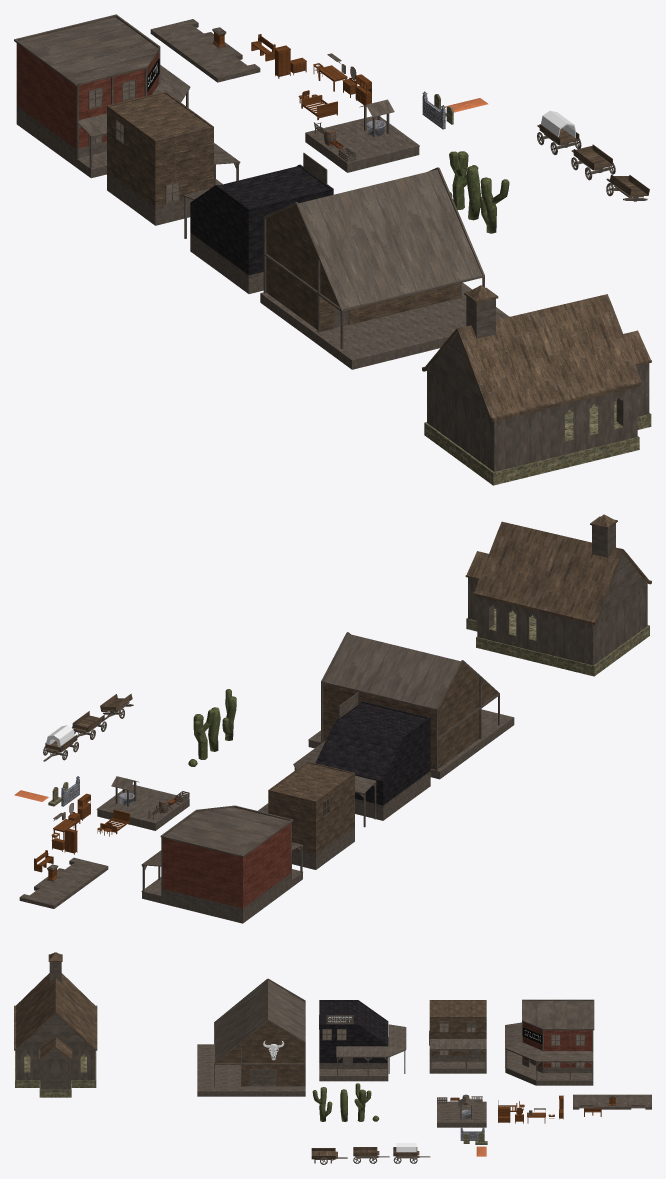
The model's file is village.glb.
3 renders of one model, top to bottom at view 1: azimuth 30°, elevation 25°; view 2: azimuth 150°, elevation 25°; view 3: azimuth 270°, elevation 25°, orthographic. The views are drawn at different scales.
Parts seen in each view (by area): view 1: Cube.166, Cube.149, Cube.146, Cube.160, Cube.148, Cube.108, Cube.122, Cube.060, Cube.186, Cube.150, Cube.127, Cube.109 (+2 smaller); view 2: Cube.166, Cube.149, Cube.160, Cube.122, Cube.146, Cube.108, Cube.060, Cube.186, Cube.127, Cube.150, Cube.148, Cube.154; view 3: Cube.166, Cube.149, Cube.160, Cube.146, Cube.108, Cube.148, Cube.122, Cube.127, Cube.109, Cube.157, Cube.060, Cube.186 (+4 smaller).
Part boxes in pixels (x1,y1,x2,y2): Cube.166: (422,285,651,485); Cube.149: (266,169,481,331); Cube.146: (107,91,213,216); Cube.160: (190,164,333,284); Cube.148: (260,282,509,369); Cube.108: (14,14,188,169); Cube.122: (16,43,158,157); Cube.060: (305,116,419,172); Cube.186: (150,19,260,82); Cube.150: (263,167,484,349); Cube.127: (16,115,106,178); Cube.109: (77,65,190,138); Cube.166: (465,514,651,676); Cube.149: (323,634,497,769); Cube.160: (315,701,430,812); Cube.122: (162,823,290,915); Cube.146: (268,761,354,862); Cube.108: (142,805,302,896); Cube.060: (96,784,189,830); Cube.186: (19,857,108,908); Cube.127: (141,869,302,923); Cube.150: (321,632,499,770); Cube.148: (308,709,514,779); Cube.154: (355,779,430,820); Cube.166: (14,952,97,1097); Cube.149: (215,980,304,1086); Cube.160: (319,1000,388,1068); Cube.146: (429,1000,486,1061); Cube.108: (506,999,594,1079); Cube.148: (197,1044,305,1096); Cube.122: (523,1022,591,1072); Cube.127: (505,1048,593,1085); Cube.109: (505,1022,593,1062); Cube.157: (336,1024,406,1057); Cube.060: (437,1101,486,1127); Cube.186: (573,1094,651,1109).
Bounding box in the file's own units: 23.48 × 9.35 × 53.38.
Materials: 15 (13 with a texture image).
